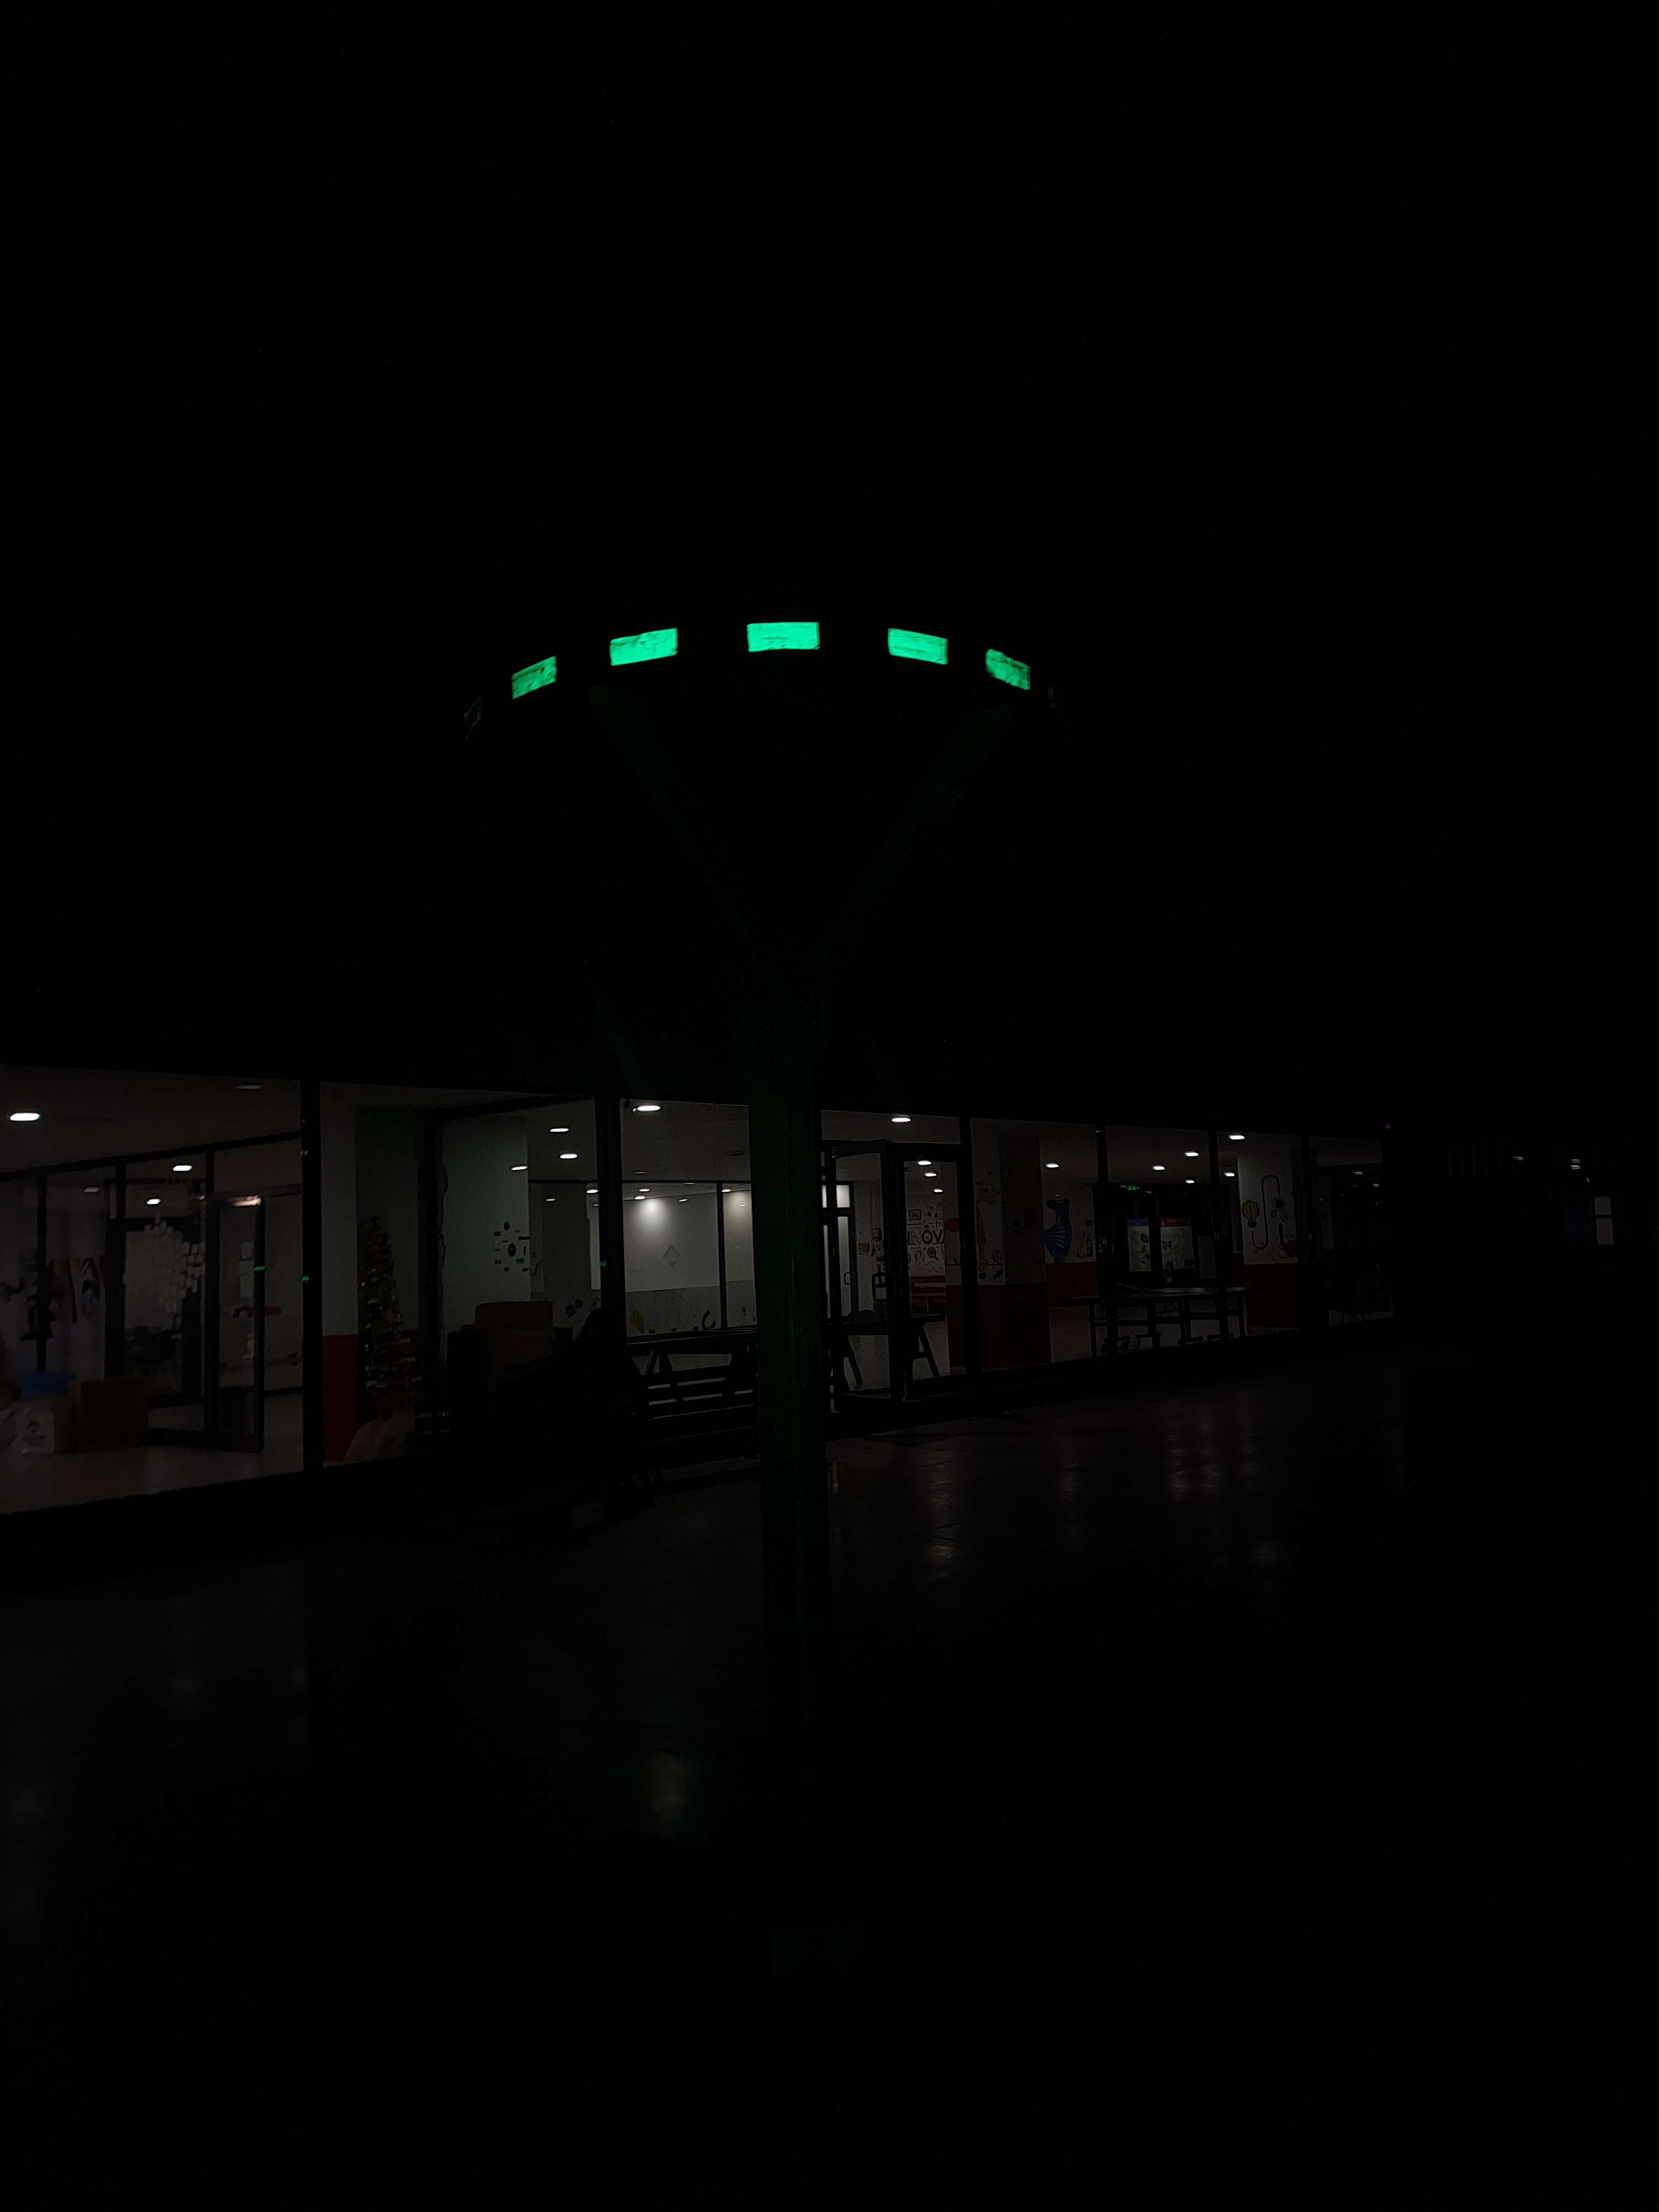hoop: (498, 618, 1037, 702)
